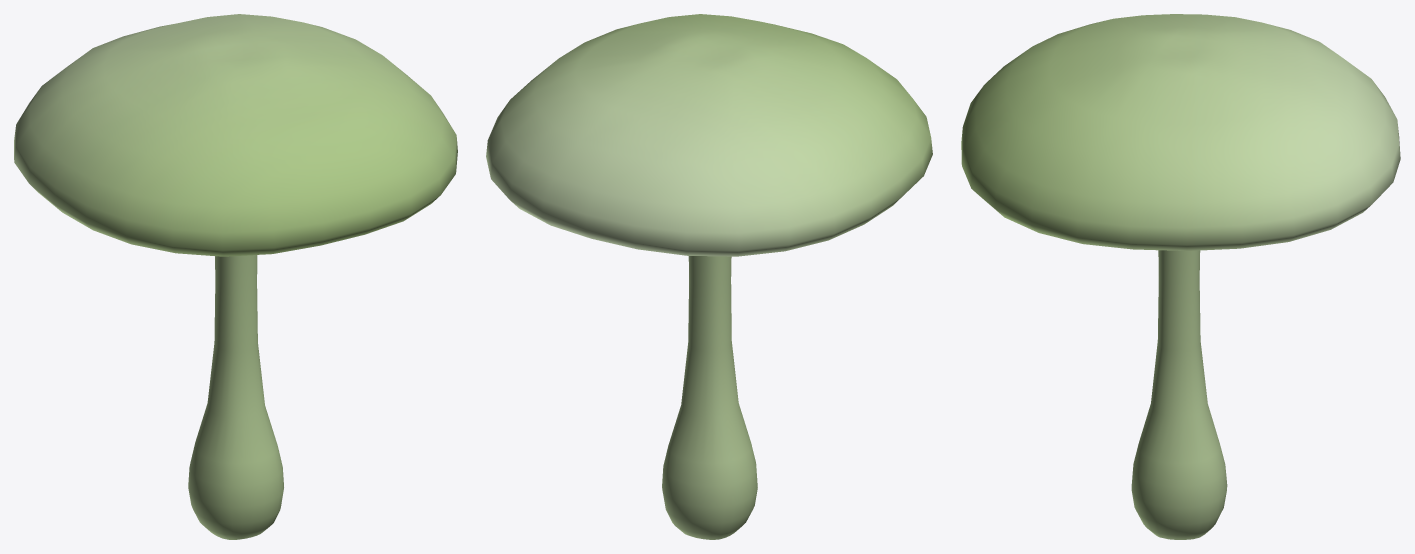
File: mushroom 30.fbx
3 renders of one model, left to right at view 1: azimuth 30°, elevation 25°; view 2: azimuth 150°, elevation 25°; view 3: azimuth 270°, elevation 25°, orthographic.
Parts seen in each view (by area): view 1: Mushroom_0001_0030; view 2: Mushroom_0001_0030; view 3: Mushroom_0001_0030.
Part boxes in pixels (bbox=[...]): Mushroom_0001_0030: bbox=[14, 14, 457, 539]; Mushroom_0001_0030: bbox=[486, 14, 932, 539]; Mushroom_0001_0030: bbox=[961, 14, 1400, 539].
Size of the model in its own units: 20.04 by 24.57 by 20.23.
Materials: 1 (1 with a texture image).
